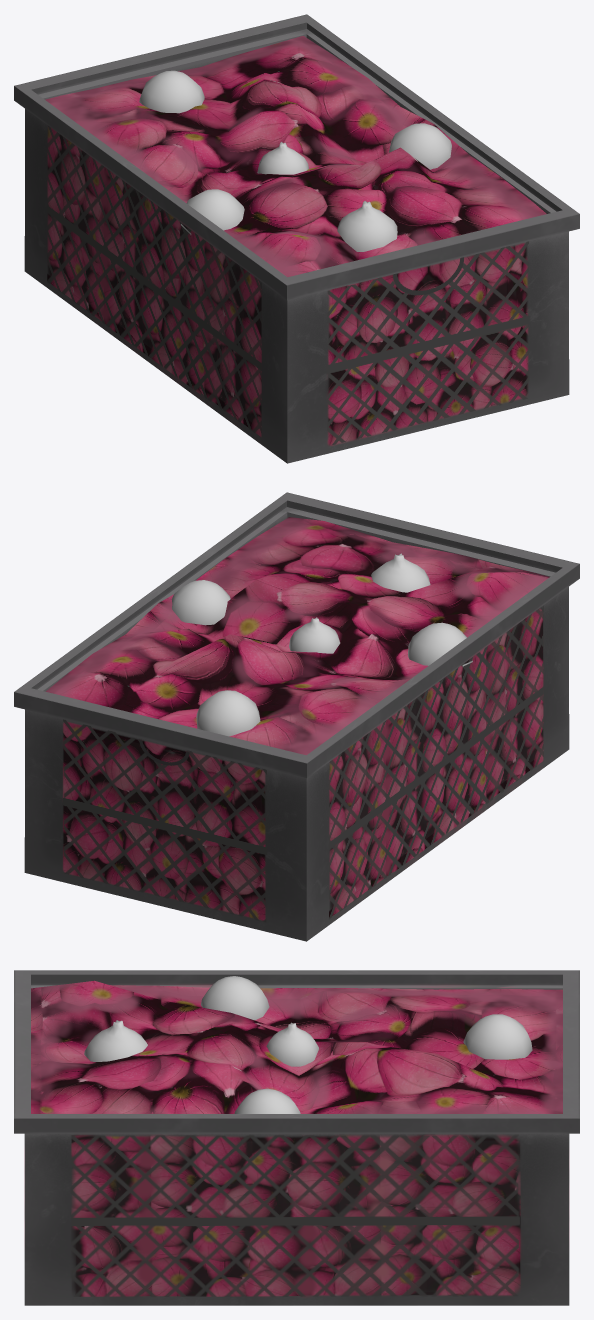
File: cebolla morada caja.fbx
The picture shows the model from 3 angles, top to bottom: view 1: azimuth 30°, elevation 25°; view 2: azimuth 150°, elevation 25°; view 3: azimuth 270°, elevation 25°; orthographic projection. The views are drawn at different scales.
Visible parts, largest first — view 1: caja cebolla morada, plano tomates duplicado.001, Onion.008, Onion.007, Onion.009, Onion.010, Onion.006; view 2: caja cebolla morada, plano tomates duplicado.001, Onion.008, Onion.009, Onion.010, Onion.007, Onion.006; view 3: caja cebolla morada, plano tomates duplicado.001, Onion.008, Onion.010, Onion.007, Onion.006, Onion.009.
Part boxes in pixels (left/top/right/bottom): caja cebolla morada: left=14, top=14, right=579, bottom=463; plano tomates duplicado.001: left=45, top=36, right=546, bottom=277; Onion.008: left=139, top=70, right=204, bottom=113; Onion.007: left=337, top=201, right=397, bottom=251; Onion.009: left=389, top=123, right=451, bottom=169; Onion.010: left=181, top=189, right=244, bottom=234; Onion.006: left=257, top=142, right=308, bottom=174; caja cebolla morada: left=14, top=492, right=579, bottom=941; plano tomates duplicado.001: left=46, top=517, right=549, bottom=755; Onion.008: left=196, top=690, right=260, bottom=736; Onion.009: left=171, top=580, right=230, bottom=625; Onion.010: left=408, top=622, right=472, bottom=666; Onion.007: left=371, top=553, right=430, bottom=592; Onion.006: left=289, top=617, right=340, bottom=653; caja cebolla morada: left=14, top=970, right=579, bottom=1305; plano tomates duplicado.001: left=31, top=980, right=562, bottom=1113; Onion.008: left=463, top=1014, right=532, bottom=1059; Onion.010: left=201, top=976, right=269, bottom=1020; Onion.007: left=84, top=1020, right=147, bottom=1061; Onion.006: left=266, top=1022, right=318, bottom=1066; Onion.009: left=234, top=1088, right=300, bottom=1113.
Size of the model in its own units: 47.79 by 30.85 by 77.08.
